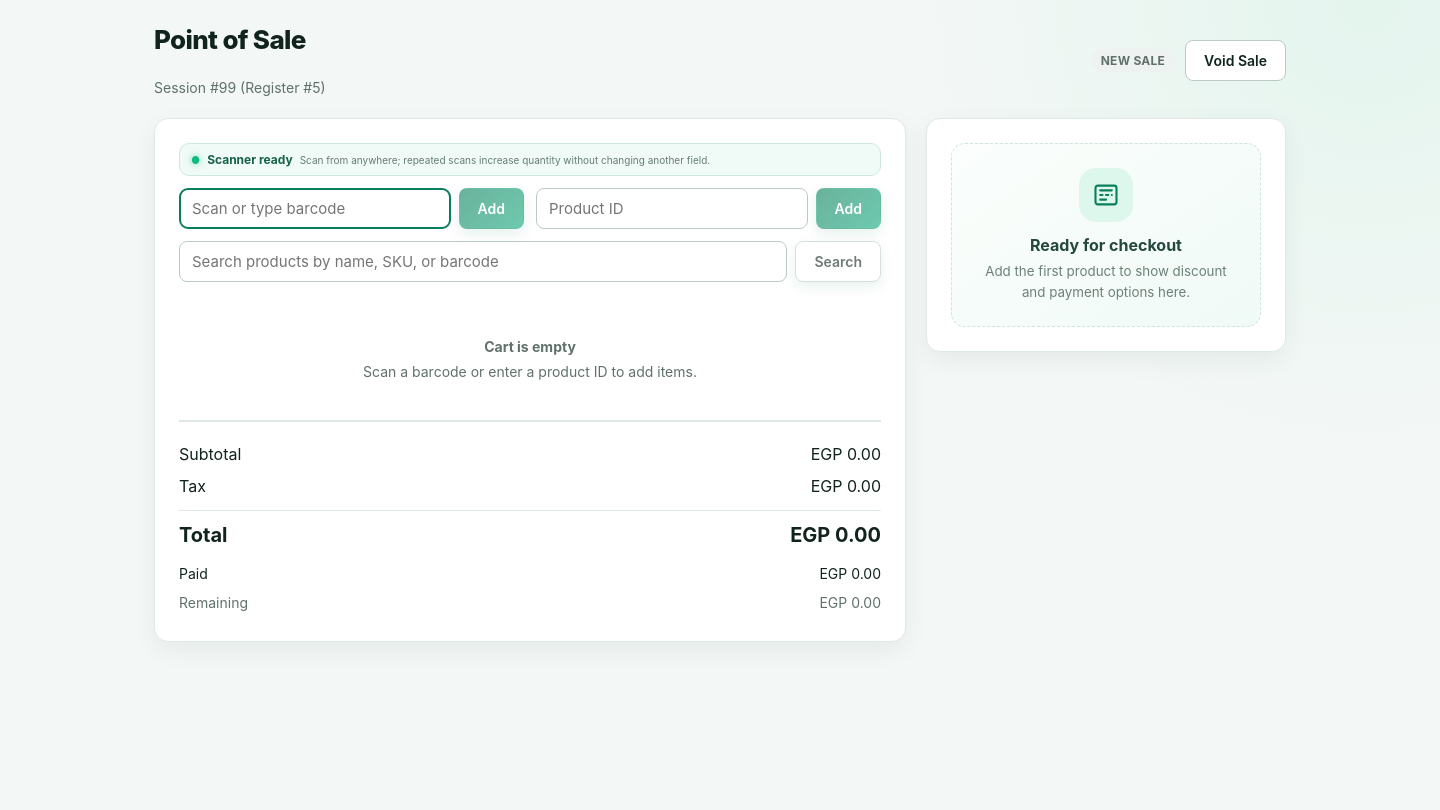
Test: PosPage › creates a draft sale on load and lets the cashier add an item by product id
Expected: the heading "Point of Sale" is shown, [154, 24, 326, 55]
In the number field with placeholder "Product ID": (672, 208) [536, 188, 808, 229], type "7"
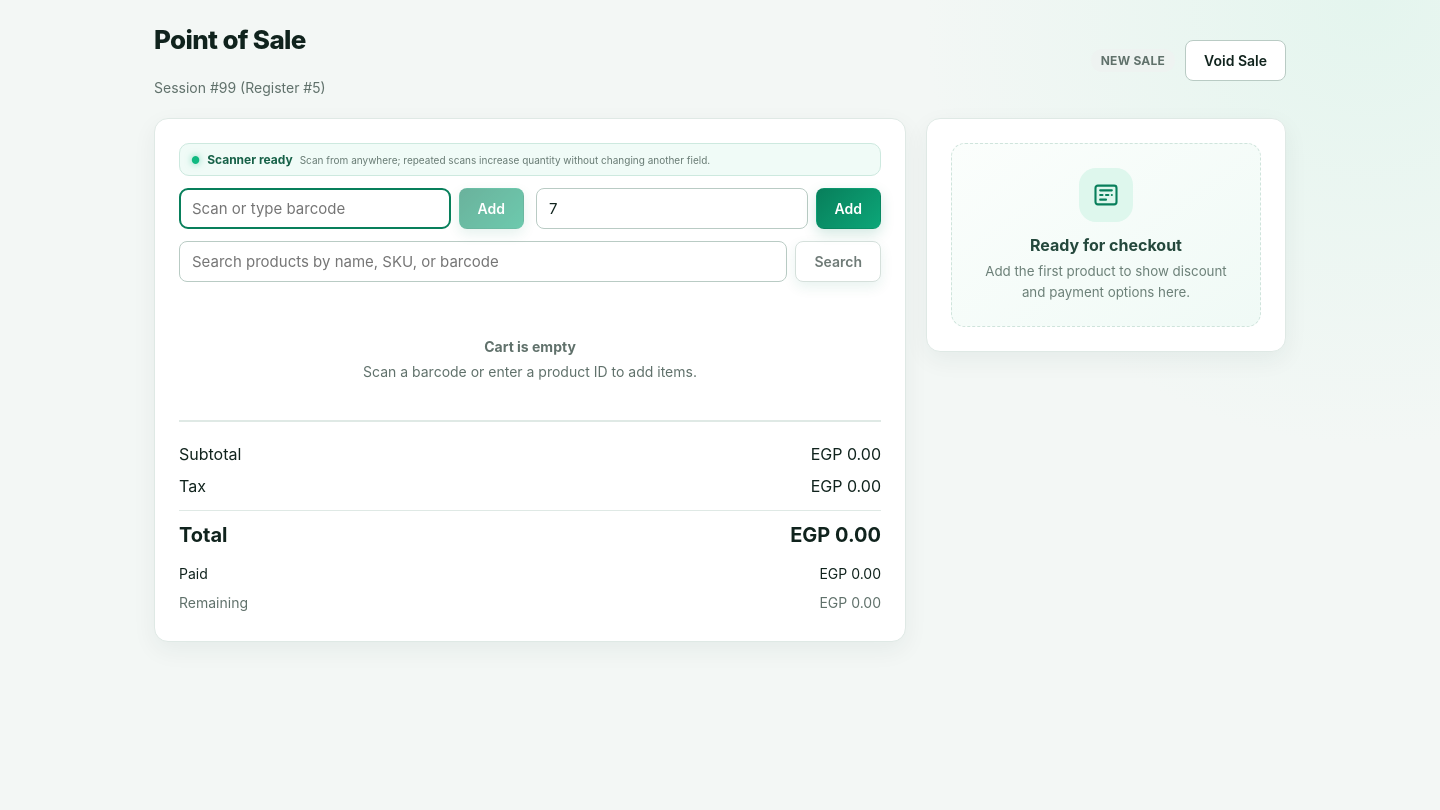
Click the 2nd button "Add": (848, 208) [816, 188, 881, 229]
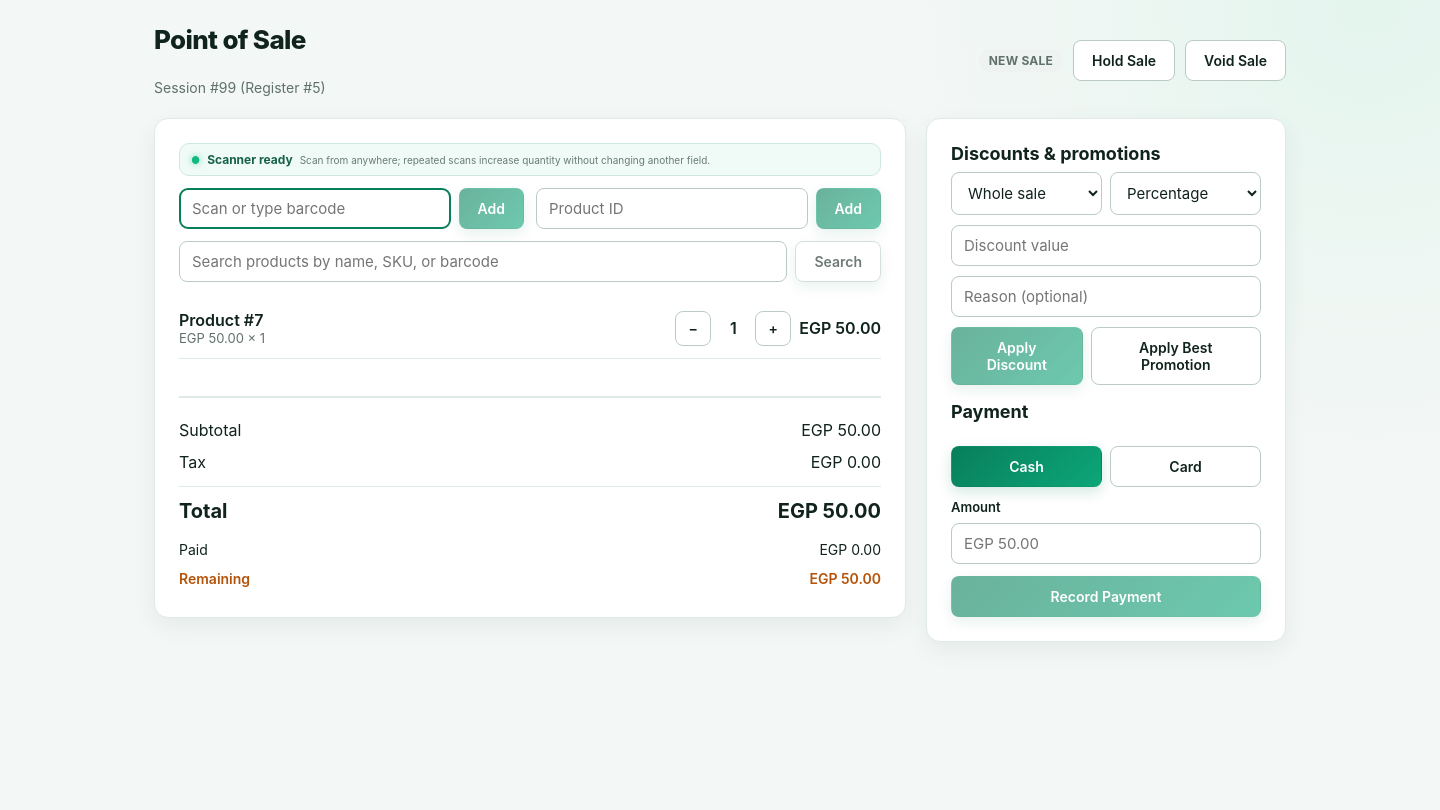
Now the text "Product #7" is shown, box [179, 310, 263, 330]
